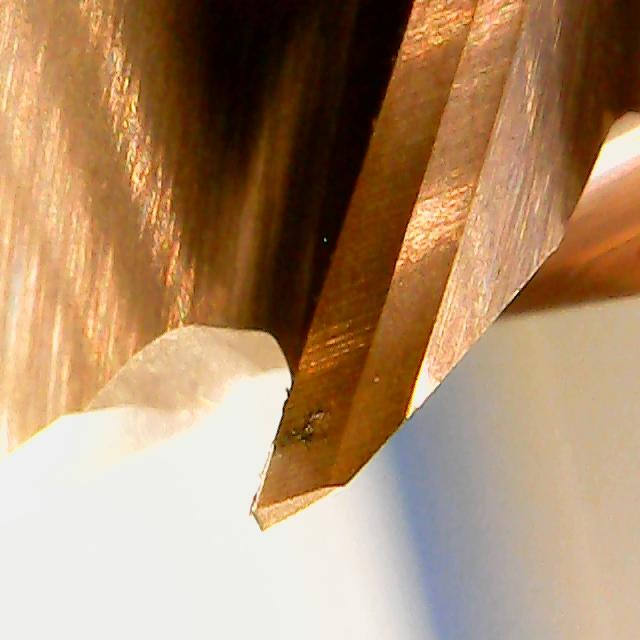Tool-wear-class-1: (227, 270, 429, 540)
